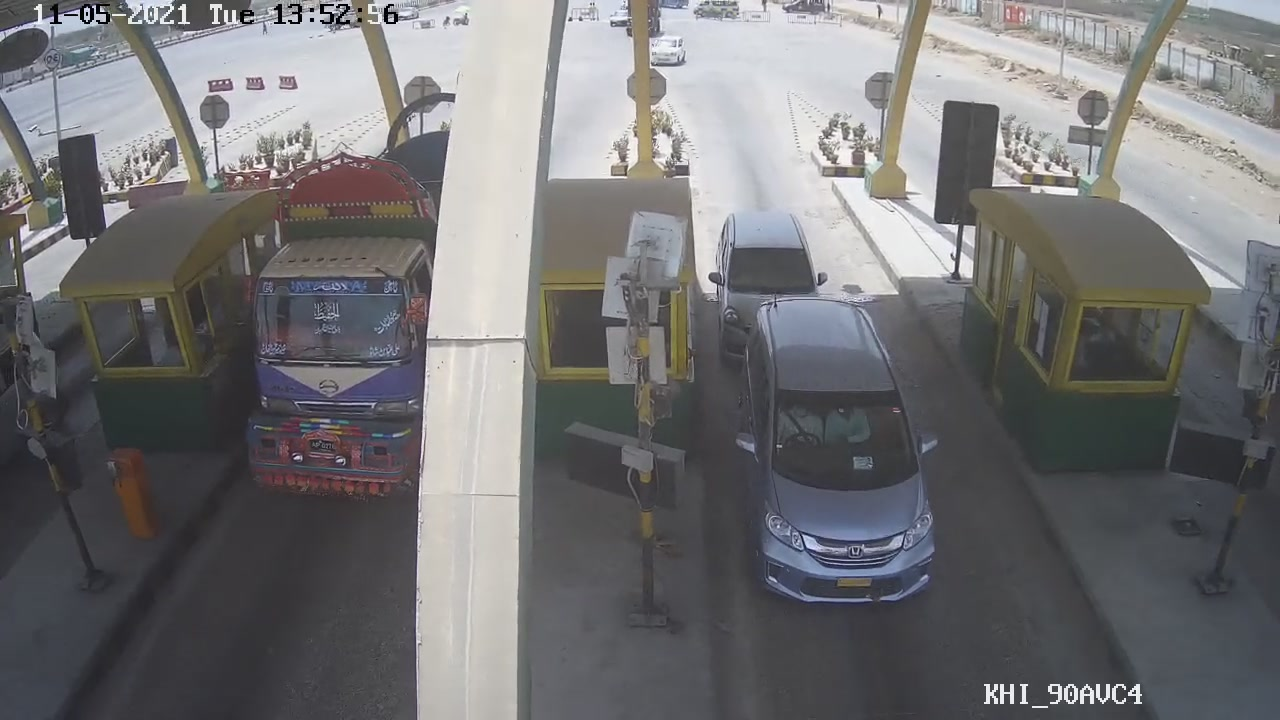F1: (717, 281, 952, 612)
